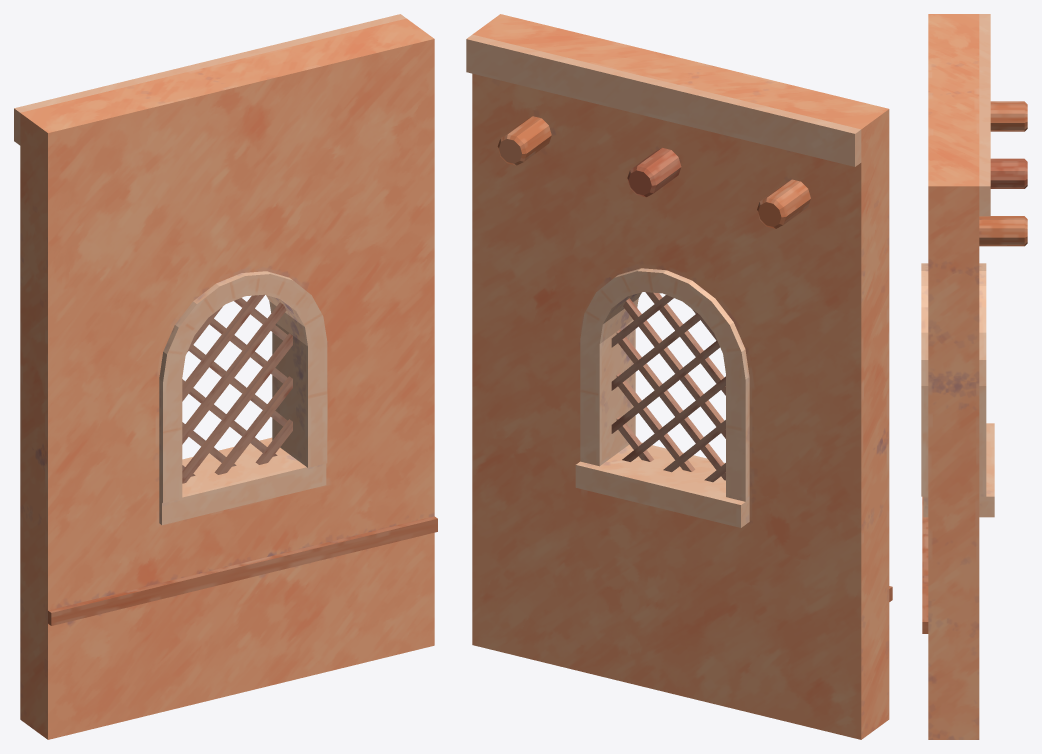
Rendered from wall2_upper_window.fbx.
3 views of the same model, side by side, from view 1: azimuth 30°, elevation 25°; view 2: azimuth 150°, elevation 25°; view 3: azimuth 270°, elevation 25° (orthographic). The views are drawn at different scales.
Visible parts, largest first — view 1: wall2_upper_window; view 2: wall2_upper_window; view 3: wall2_upper_window.
Boxes of the visible parts, x1,y1,x2,y2 form: wall2_upper_window: (14, 14, 437, 739); wall2_upper_window: (466, 14, 892, 739); wall2_upper_window: (921, 14, 1027, 739).
Bounding box in the file's own units: 8 × 12 × 2.09.
1 material, 1 textured.
